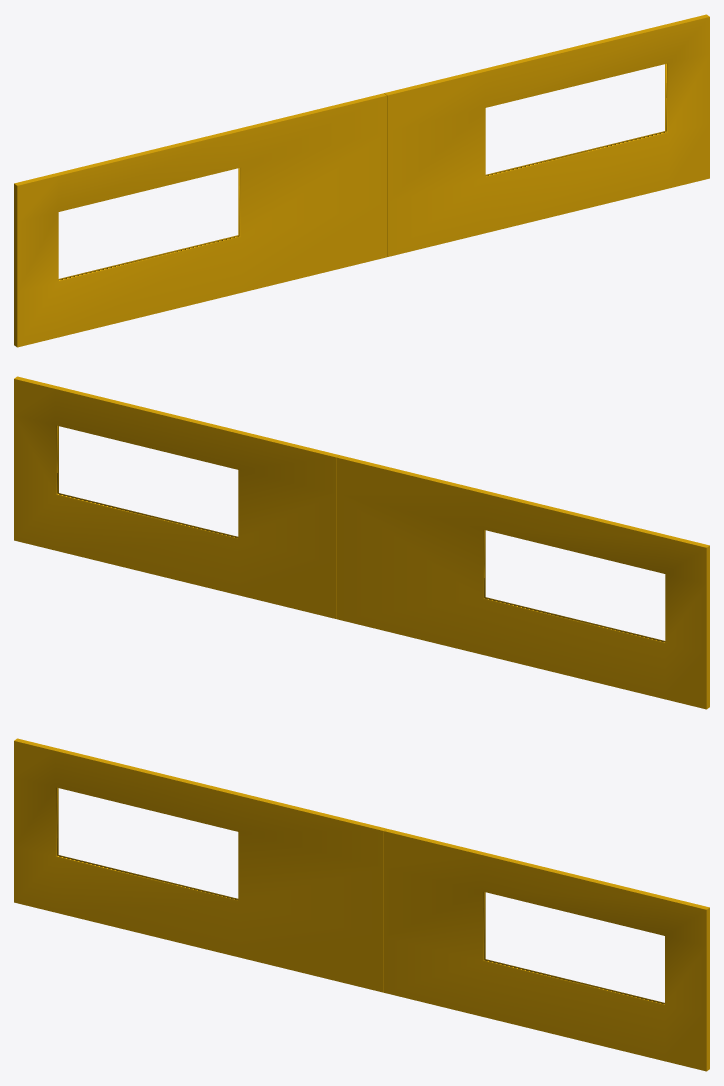
Rendered from BH05B_Wall_06_Break_B_Collider.fbx.
3 views of the same model, one above another, from view 1: azimuth 30°, elevation 25°; view 2: azimuth 150°, elevation 25°; view 3: azimuth 330°, elevation 25° (orthographic).
Parts seen in each view (by area): view 1: BH05B_Wall_06_Break_B_Collider; view 2: BH05B_Wall_06_Break_B_Collider; view 3: BH05B_Wall_06_Break_B_Collider.
Part boxes in pixels (left/top/right/bottom): BH05B_Wall_06_Break_B_Collider: left=14, top=14, right=709, bottom=347; BH05B_Wall_06_Break_B_Collider: left=14, top=376, right=709, bottom=709; BH05B_Wall_06_Break_B_Collider: left=14, top=738, right=709, bottom=1071.
Bounding box in the file's own units: 1315 × 293 × 10.81.
